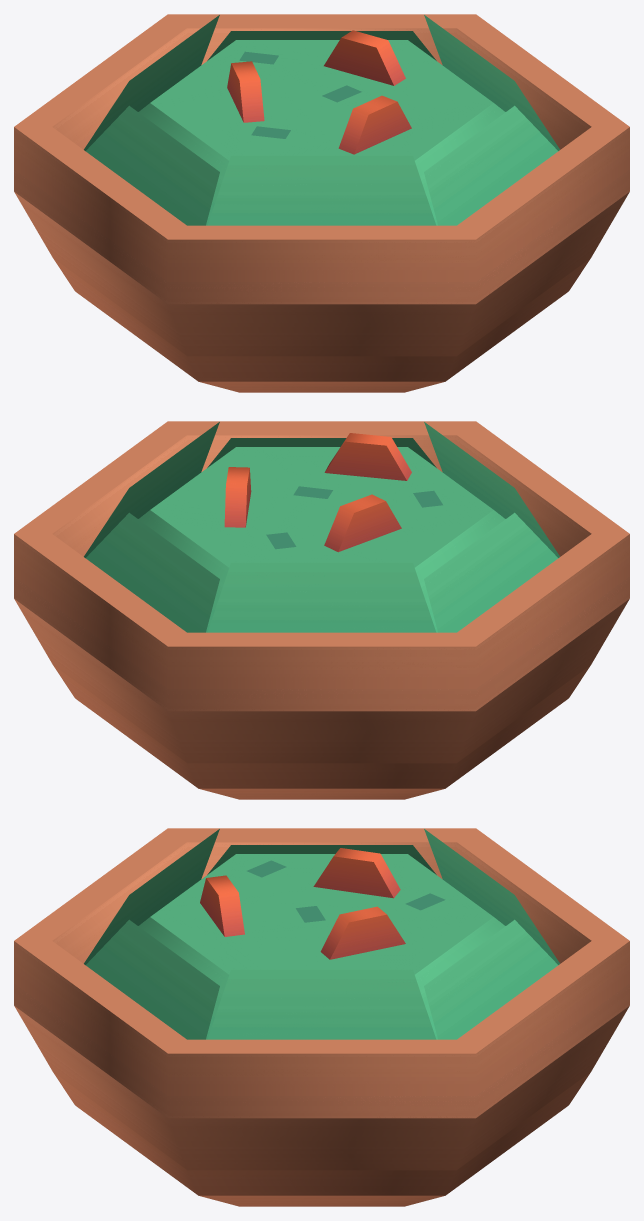
3 renders of one model, top to bottom at view 1: azimuth 30°, elevation 25°; view 2: azimuth 150°, elevation 25°; view 3: azimuth 270°, elevation 25°, orthographic.
Parts seen in each view (by area): view 1: salad; view 2: salad; view 3: salad.
Boxes of the visible parts, x1,y1,x2,y2 form: salad: (14, 14, 629, 392); salad: (14, 421, 629, 799); salad: (14, 828, 629, 1206).
Size of the model in its own units: 0.2106 by 0.1146 by 0.2432.
1 material, 1 textured.
